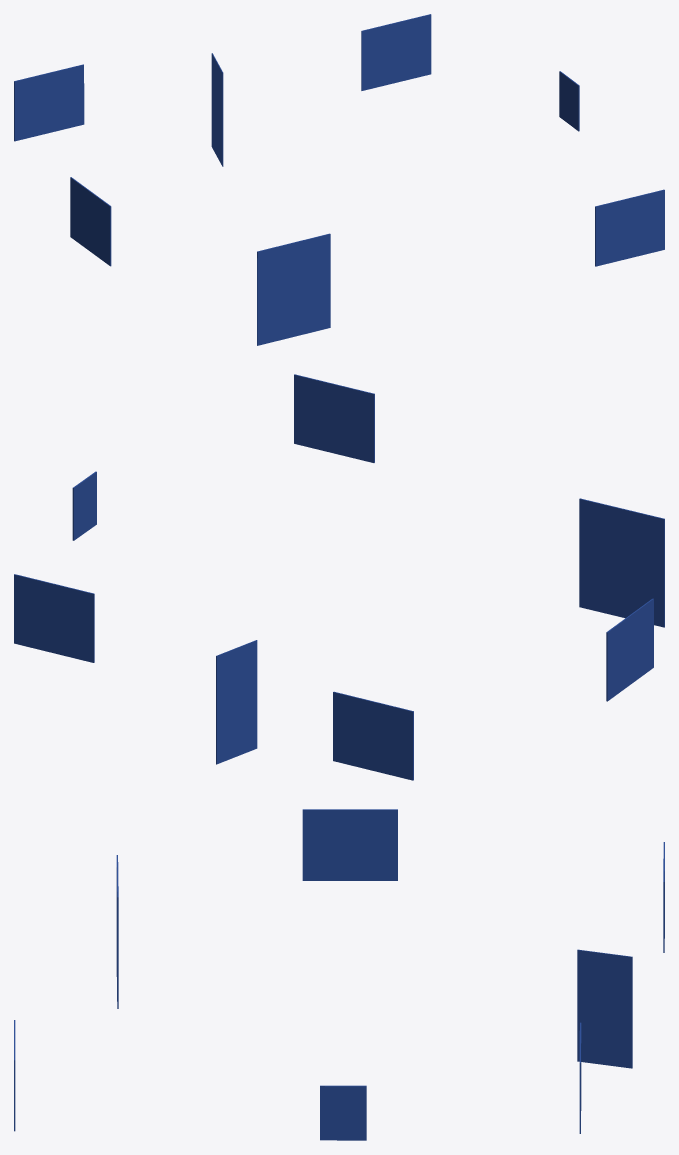
The model's file is windows.obj.
3 views of the same model, one above another, from view 1: azimuth 30°, elevation 25°; view 2: azimuth 150°, elevation 25°; view 3: azimuth 270°, elevation 25° (orthographic). The views are drawn at different scales.
Visible parts, largest first — view 1: pasted__polySurface2679 group; view 2: pasted__polySurface2679 group; view 3: pasted__polySurface2679 group.
Part boxes in pixels (box(x1,y1,x2,y2)): pasted__polySurface2679 group: box(14, 14, 664, 345); pasted__polySurface2679 group: box(14, 374, 664, 780); pasted__polySurface2679 group: box(14, 809, 664, 1140).
Bounding box in the file's own units: 76.42 × 15.43 × 76.08.
Materials: 1 (1 with a texture image).
